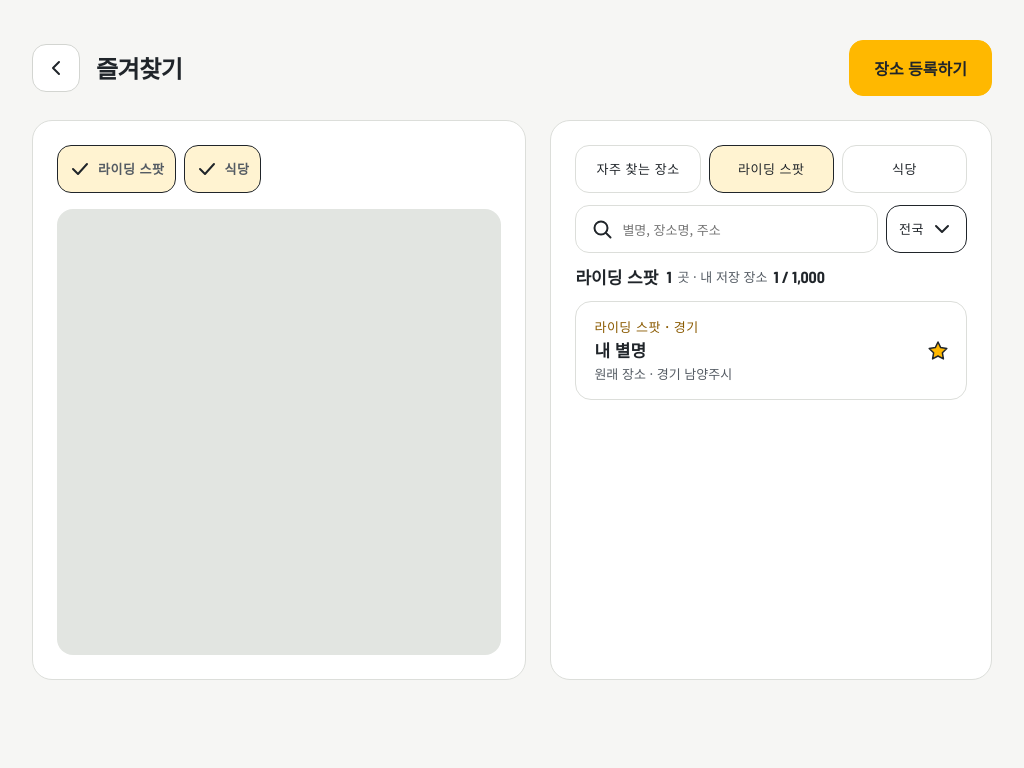
opens the PC detail in the list panel and returns to the list (FPW04/FPW05)
Click the button "라이딩 스팟 · 경기 내 별명 원래 장소 · 경기 남양주시": {"x": 628, "y": 326} top-left (594, 318), bottom-right (910, 383)
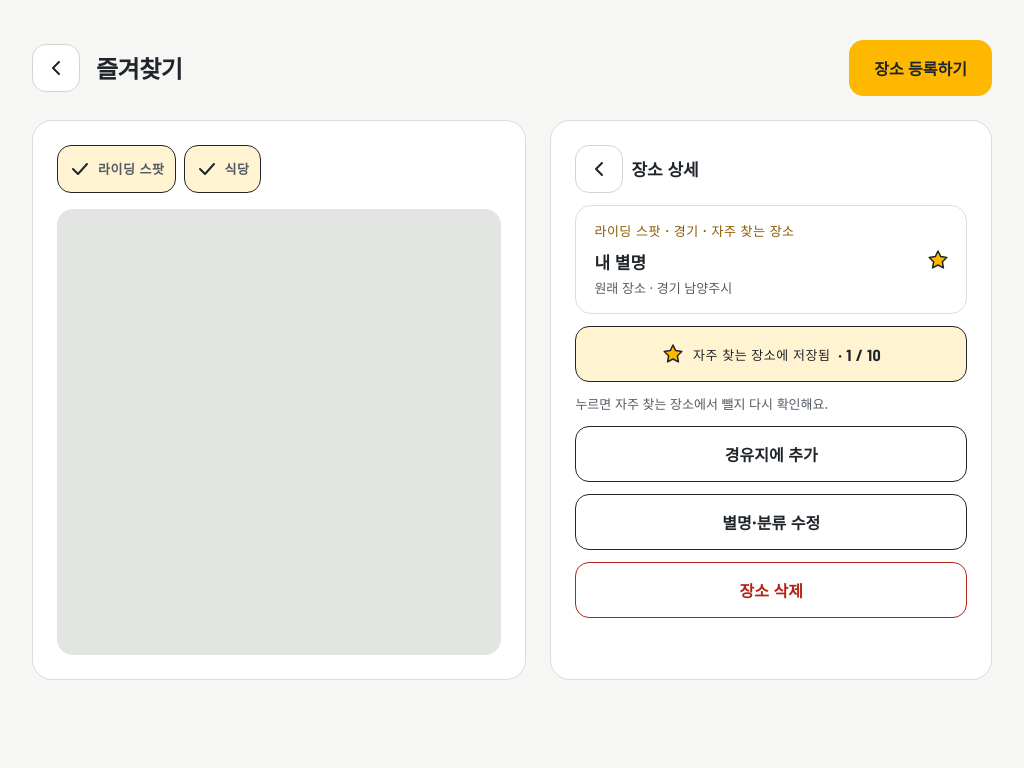
Click the button named "장소 상세 뒤로": {"x": 599, "y": 169} top-left (575, 145), bottom-right (623, 193)
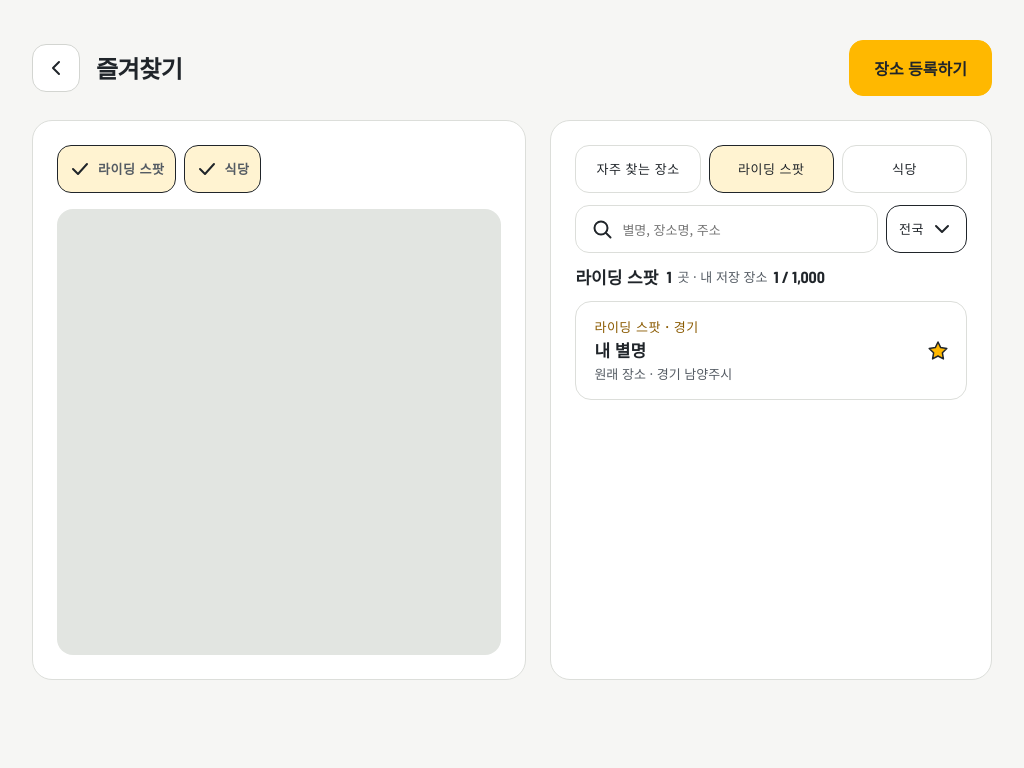
Check: the button "라이딩 스팟 · 경기 내 별명 원래 장소 · 경기 남양주시" is shown, box top-left (594, 318), bottom-right (910, 383)
